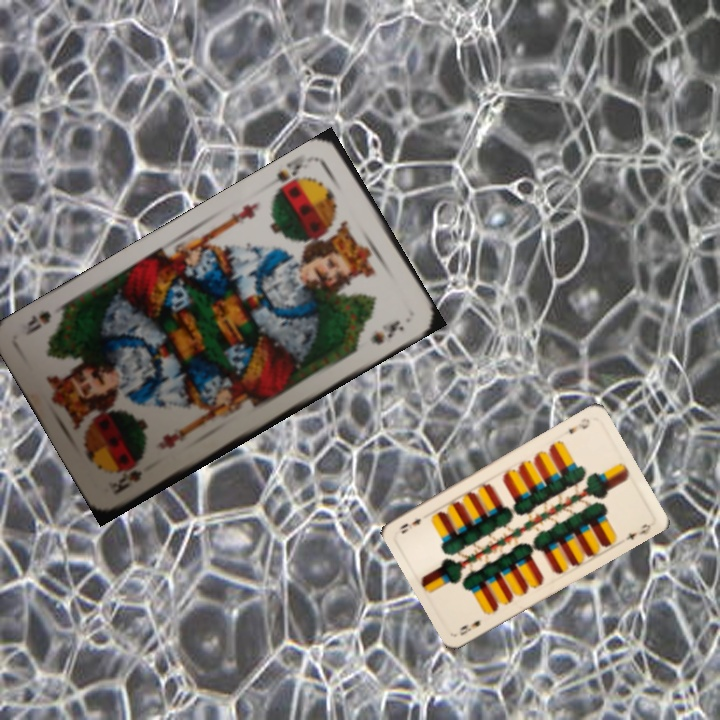E9: (564, 414, 593, 437), (456, 616, 483, 638)
SK: (267, 151, 320, 197), (106, 466, 145, 497)
